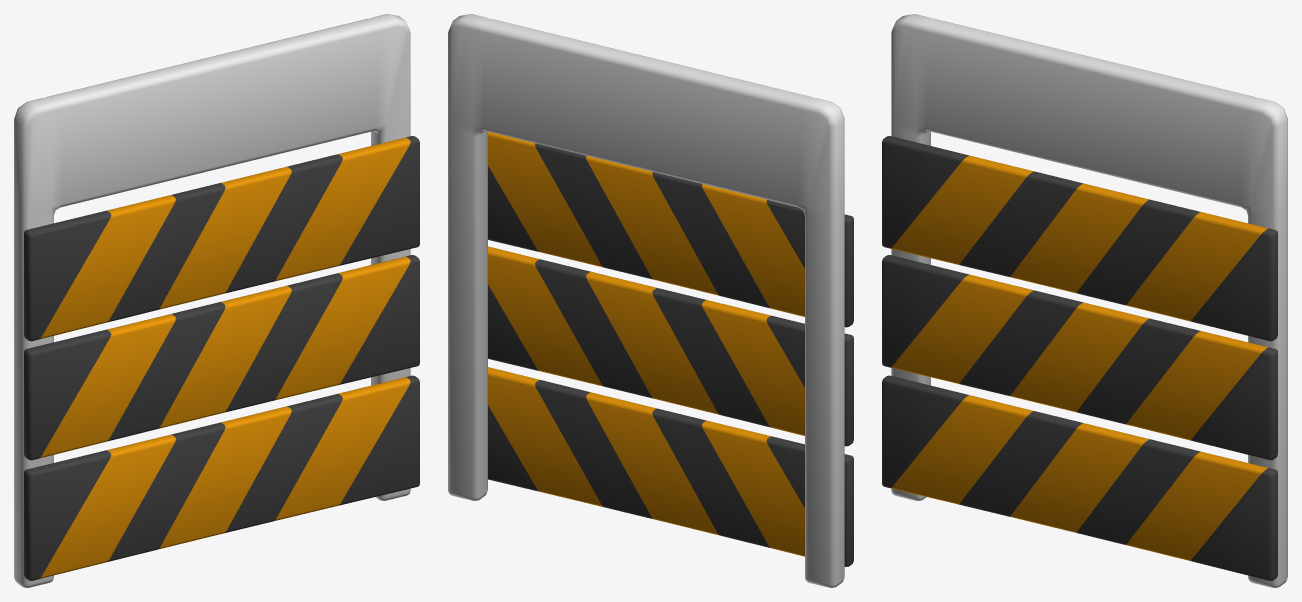
The model's file is locked-gate.fbx.
The picture shows the model from 3 angles, left to right: view 1: azimuth 30°, elevation 25°; view 2: azimuth 150°, elevation 25°; view 3: azimuth 330°, elevation 25°; orthographic projection.
Visible parts, largest first — view 1: Cube.002, Cube.006, Cube.007, Cube.009; view 2: Cube.002, Cube.007, Cube.009, Cube.006; view 3: Cube.002, Cube.006, Cube.007, Cube.009.
Part boxes in pixels (bbox=[...]): Cube.002: bbox=[14, 14, 410, 587]; Cube.006: bbox=[24, 136, 419, 341]; Cube.007: bbox=[24, 255, 419, 460]; Cube.009: bbox=[24, 375, 419, 580]; Cube.002: bbox=[448, 14, 844, 587]; Cube.007: bbox=[488, 246, 853, 446]; Cube.009: bbox=[488, 367, 853, 566]; Cube.006: bbox=[488, 132, 853, 327]; Cube.002: bbox=[891, 14, 1287, 587]; Cube.006: bbox=[882, 136, 1277, 341]; Cube.007: bbox=[882, 255, 1277, 460]; Cube.009: bbox=[882, 375, 1277, 580].
Size of the model in its own units: 99.83 by 117 by 8.61.
